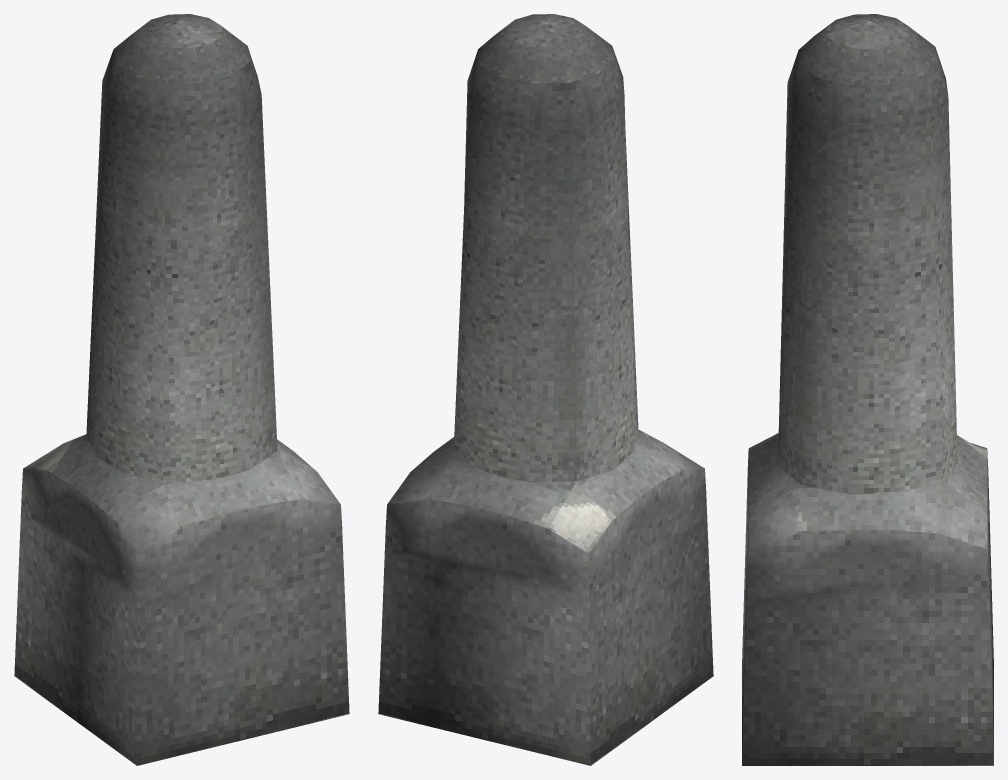
The model's file is concrete_retro_bollard.glb.
3 views of the same model, side by side, from view 1: azimuth 30°, elevation 25°; view 2: azimuth 150°, elevation 25°; view 3: azimuth 270°, elevation 25° (orthographic). The views are drawn at different scales.
Parts seen in each view (by area): view 1: concrete_retro_bollard; view 2: concrete_retro_bollard; view 3: concrete_retro_bollard.
Boxes of the visible parts, box(x1,y1,x2,y2) form: concrete_retro_bollard: box(14, 14, 349, 765); concrete_retro_bollard: box(378, 14, 713, 765); concrete_retro_bollard: box(742, 14, 993, 765).
Size of the model in its own units: 0.4286 by 1.3 by 0.4286.
Materials: 1 (1 with a texture image).
